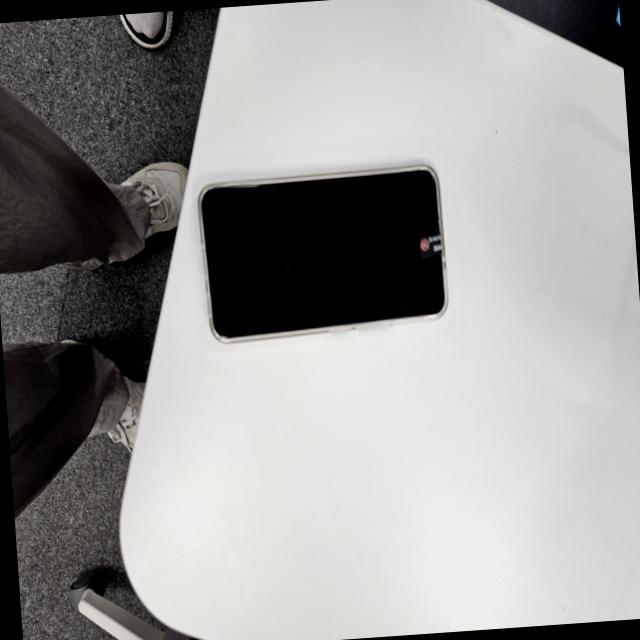phone: (192, 163, 450, 344)
sticker: (416, 232, 442, 257)
